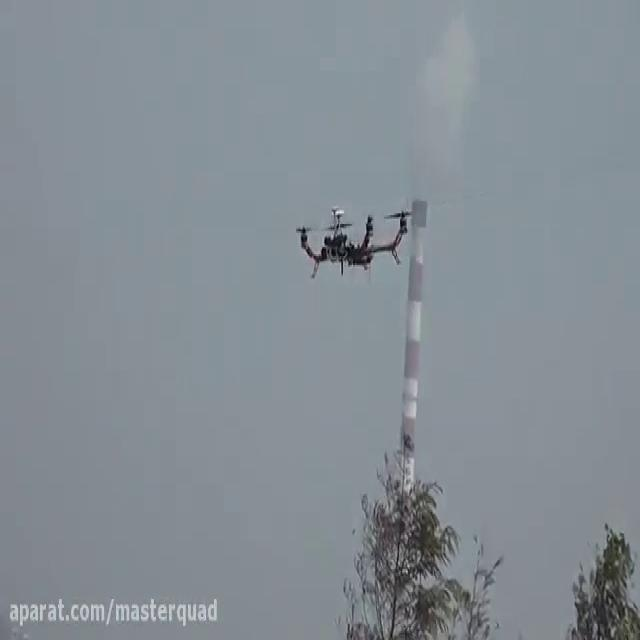drone: (288, 197, 415, 281)
